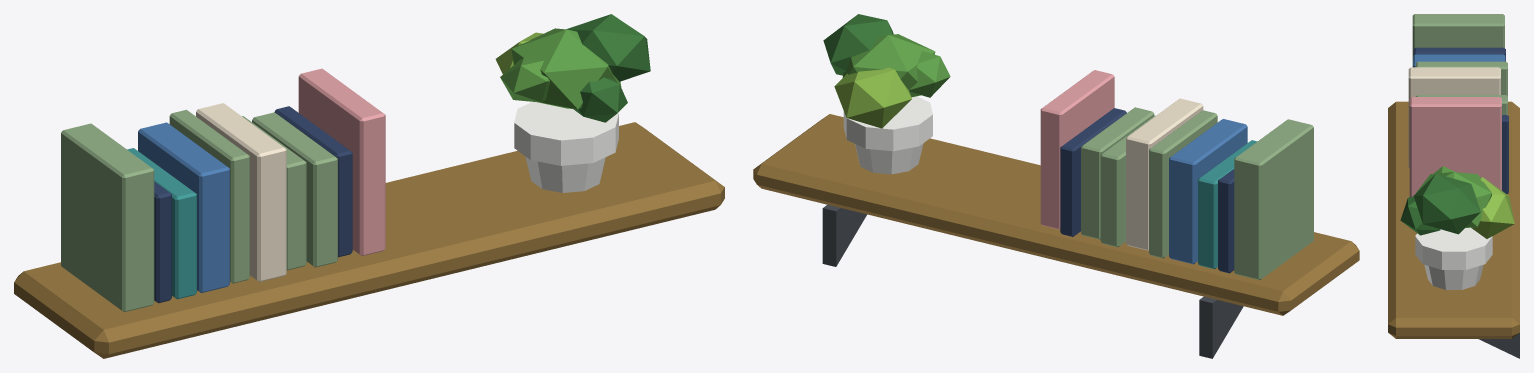
The model's file is wall_shelf.glb.
The picture shows the model from 3 angles, left to right: view 1: azimuth 30°, elevation 25°; view 2: azimuth 150°, elevation 25°; view 3: azimuth 270°, elevation 25°; orthographic projection. The views are drawn at different scales.
Visible parts, largest first — view 1: wall_shelf_Body; view 2: wall_shelf_Body; view 3: wall_shelf_Body.
Boxes of the visible parts, box(x1,y1,x2,y2) form: wall_shelf_Body: box(14, 14, 724, 358); wall_shelf_Body: box(753, 14, 1359, 358); wall_shelf_Body: box(1388, 14, 1519, 358).
Size of the model in its own units: 0.8 by 0.3 by 0.2.
